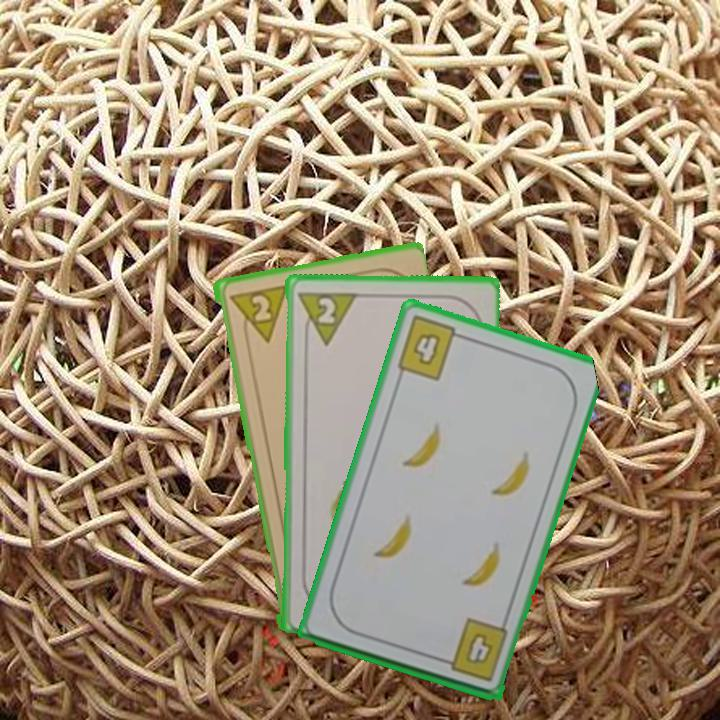2p: (225, 281, 289, 348), (293, 287, 358, 348)
4b: (393, 312, 469, 384), (436, 614, 511, 684)
